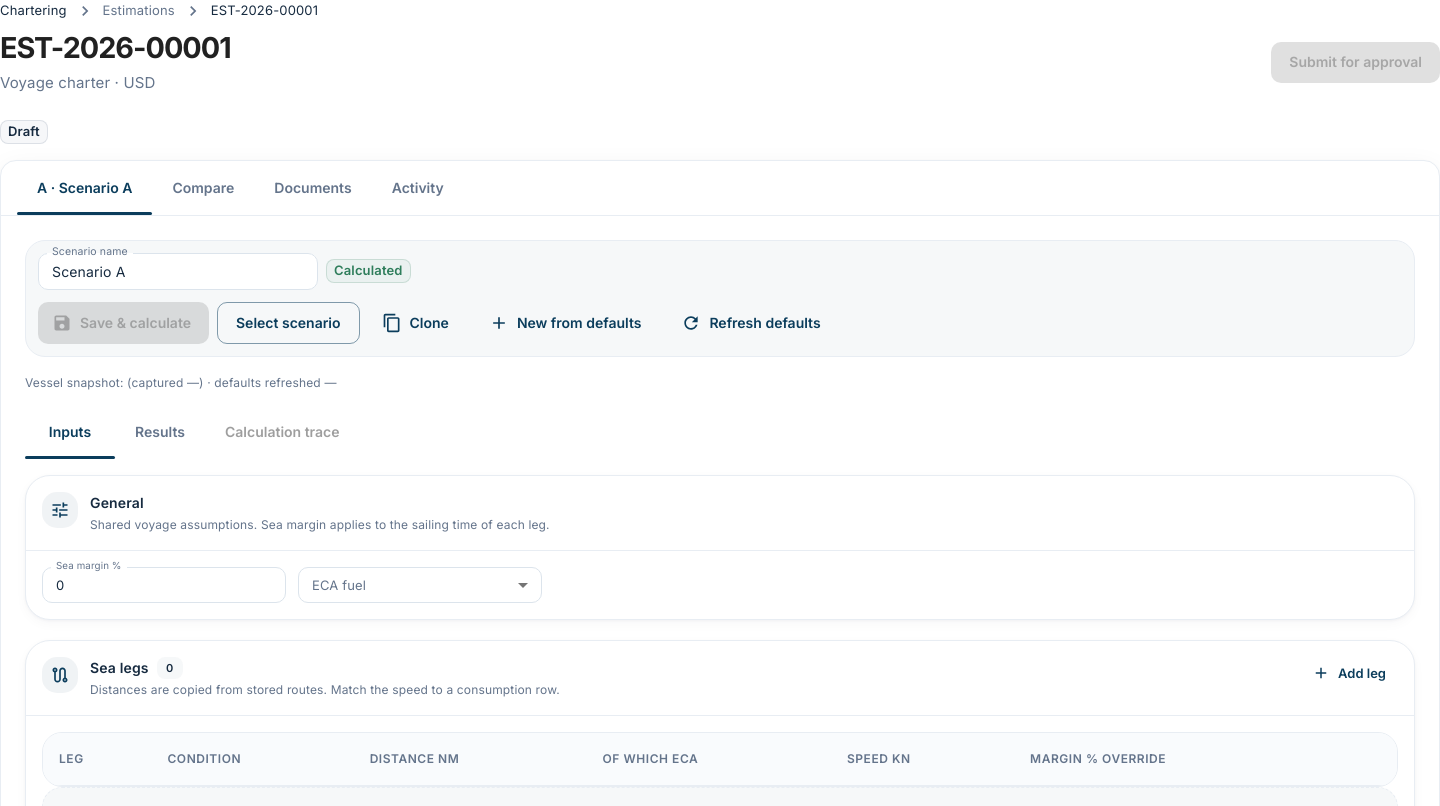
Test: Estimation scenario selection › blocks selection for actual edits and enables it again after saving reordered inputs
Replace the text in the field labelled "Sea margin %" with "10" at (164, 585), box [42, 567, 286, 603]
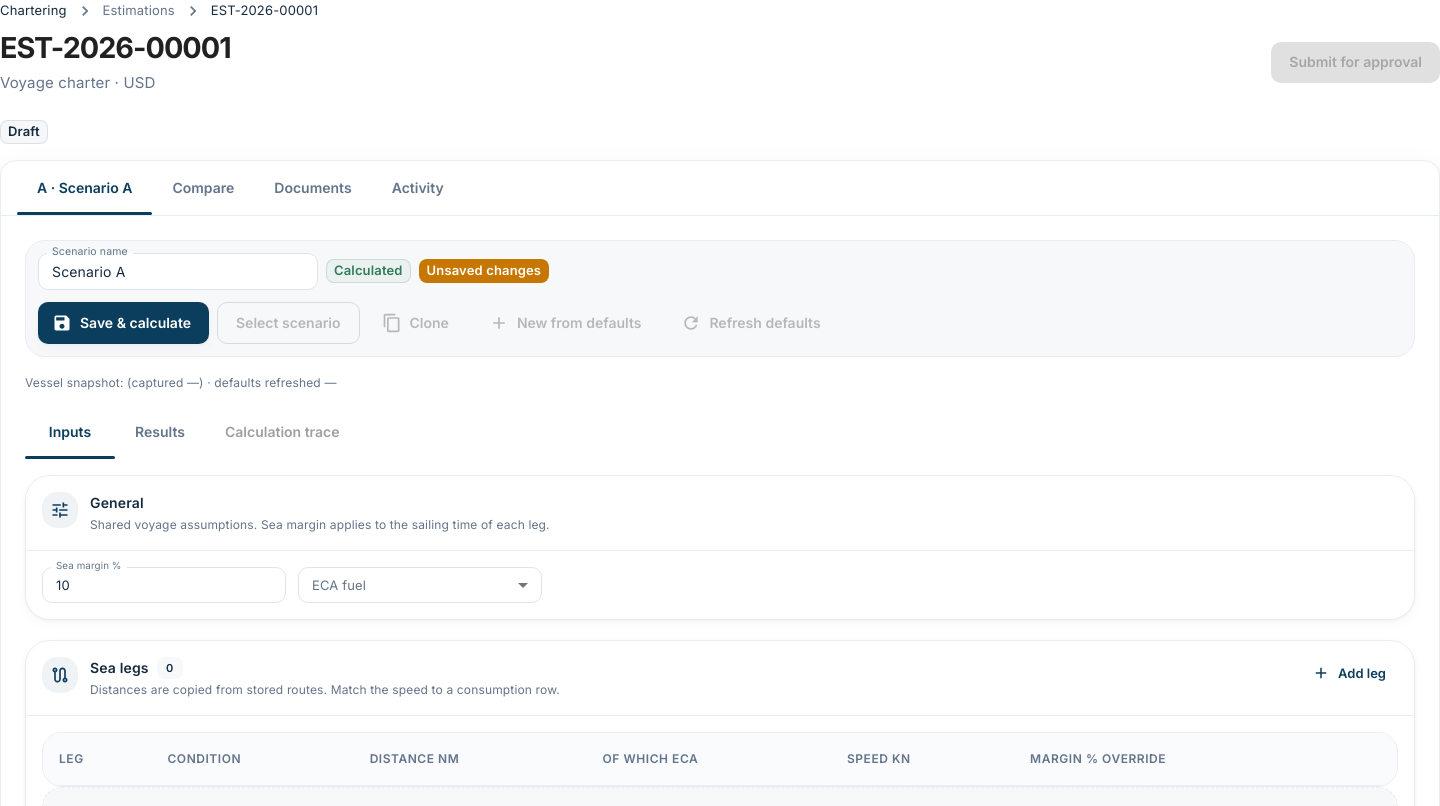
Result: the button "Select scenario" is disabled at [217, 302, 360, 344]
Result: the text "Unsaved changes" is shown at [419, 261, 549, 281]
Click the button "Save & calculate".
click(124, 323)  # box [38, 302, 209, 344]
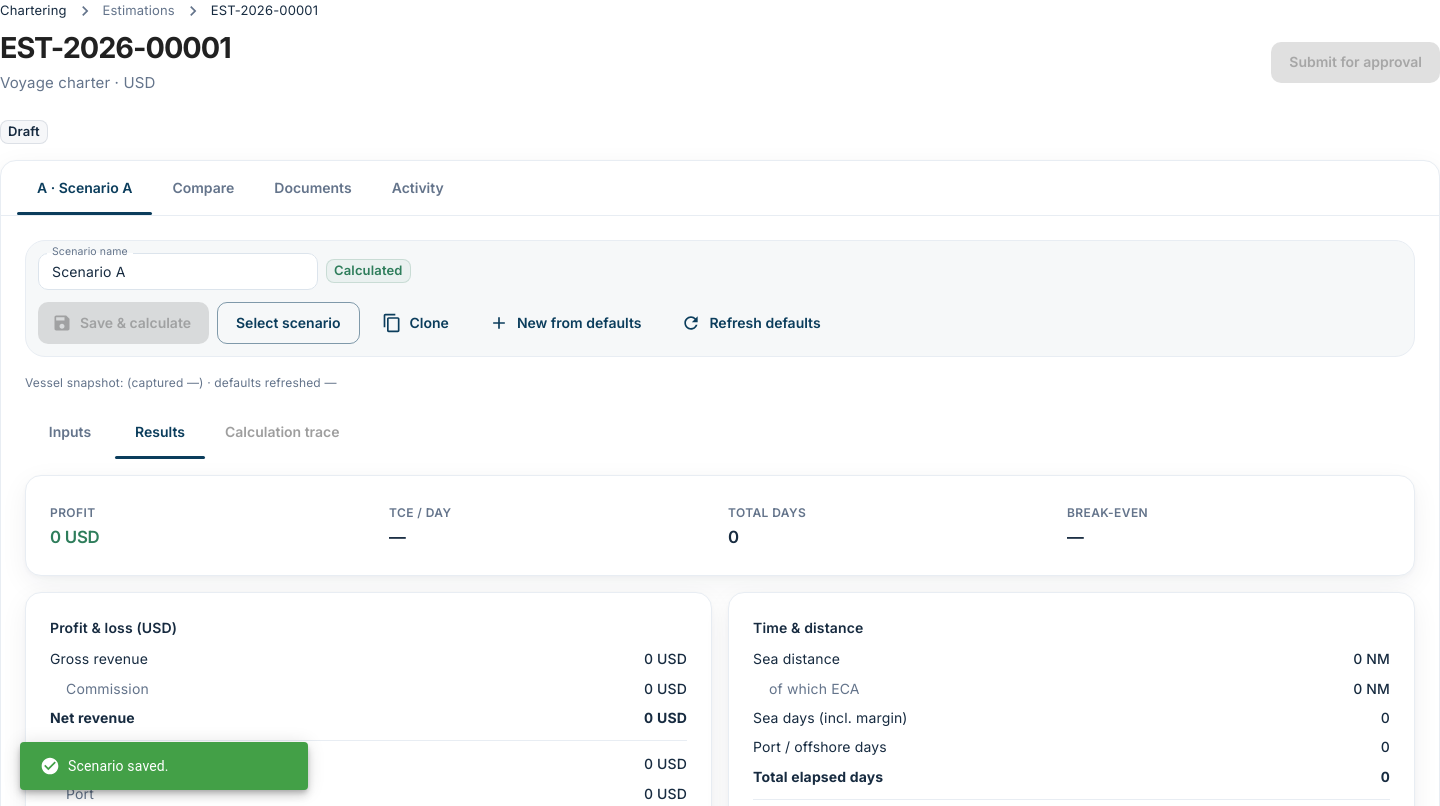
Result: the button "Select scenario" is enabled at [217, 302, 360, 344]
Result: the text "Unsaved changes" is gone
Result: the button "Save & calculate" is disabled at [38, 302, 209, 344]
